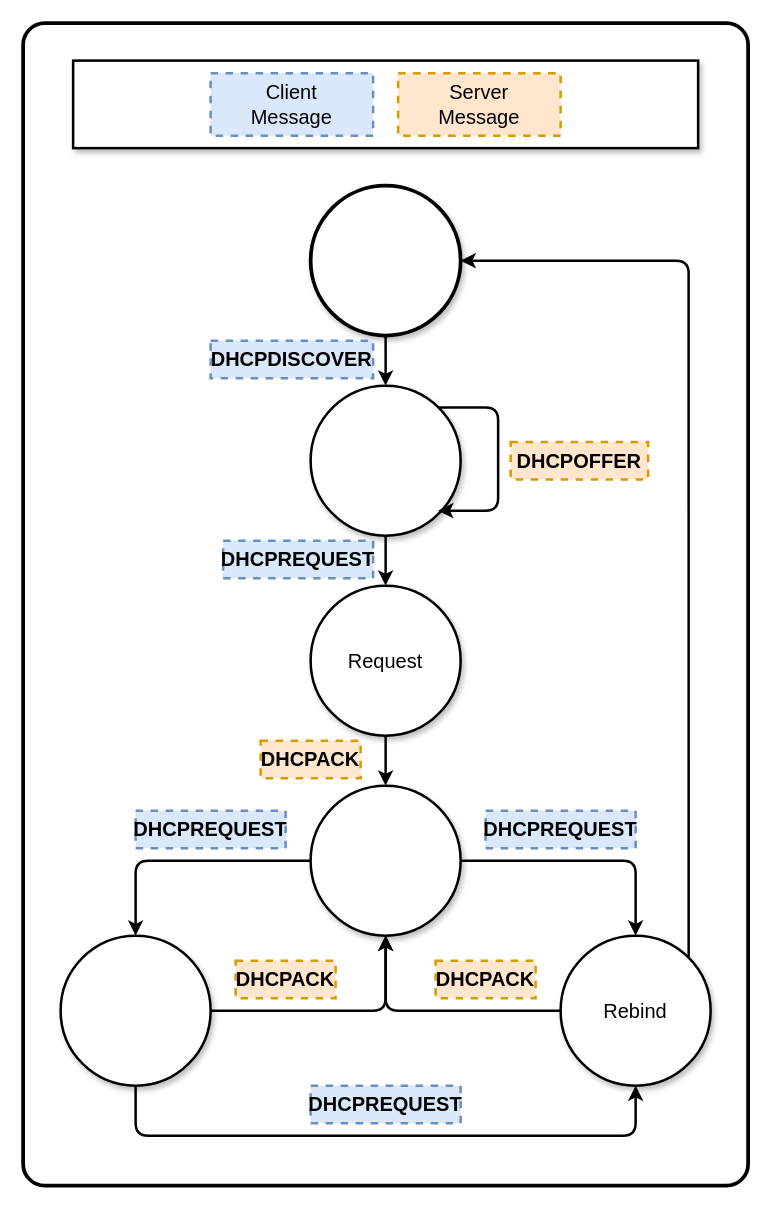
Image size: 771x1209. Some labels were removed from this diagram. Here are the shapes that lost their labels. From the top down, the centre of each, then its label:
At pixel 386 262: "Init".
At pixel 386 462: "Select".
At pixel 386 862: "Bound".
At pixel 136 1012: "Renew".
